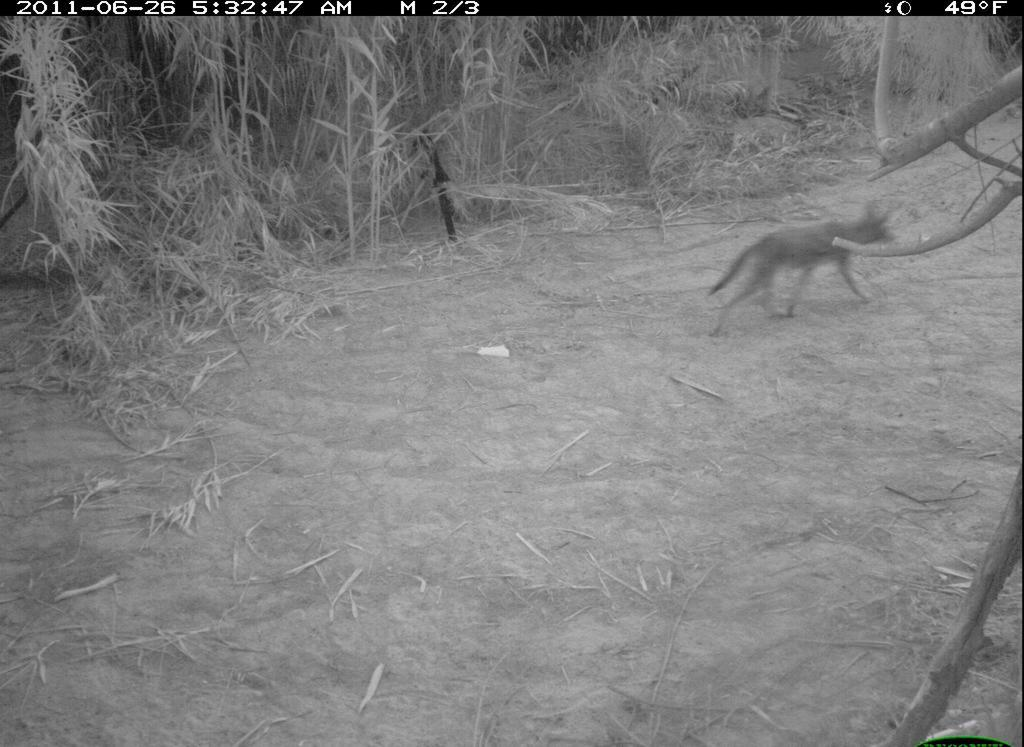coyote: (705, 191, 905, 340)
